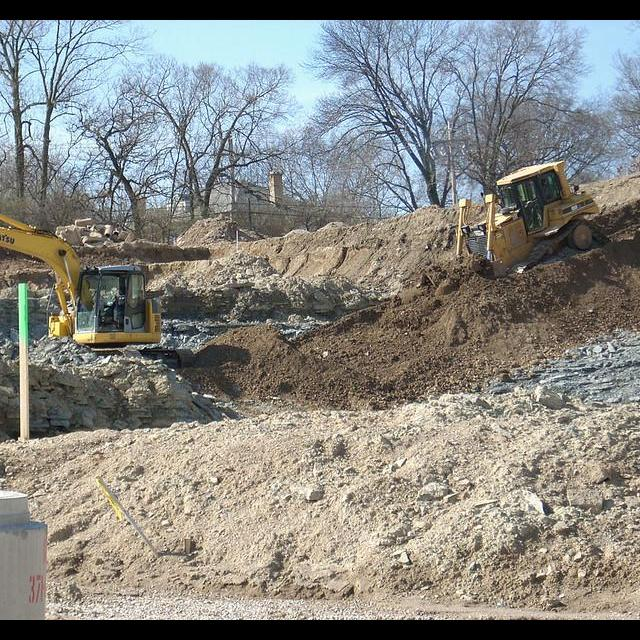Excavator: (0, 193, 196, 366)
Person: (529, 177, 558, 205)
wheel loader: (455, 161, 610, 273)
